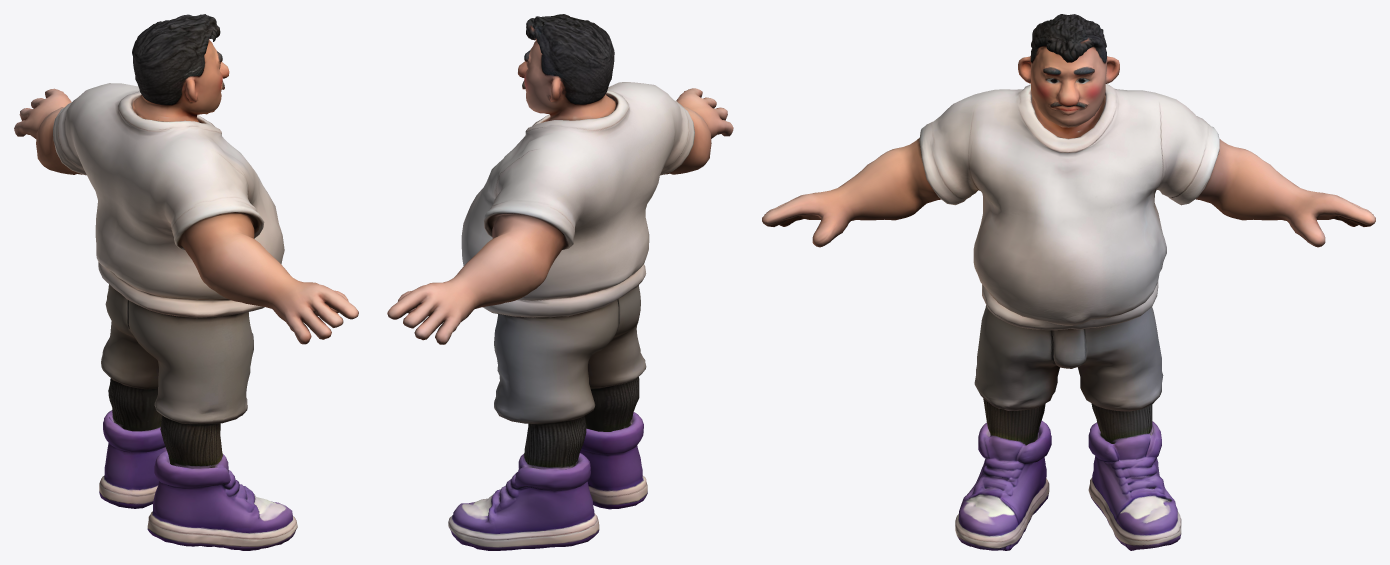
3 renders of one model, left to right at view 1: azimuth 30°, elevation 25°; view 2: azimuth 150°, elevation 25°; view 3: azimuth 270°, elevation 25°, orthographic.
Visible parts, largest first — view 1: tripo_node_d2f870b1; view 2: tripo_node_d2f870b1; view 3: tripo_node_d2f870b1.
Boxes of the visible parts, x1,y1,x2,y2 form: tripo_node_d2f870b1: (14,14,358,550); tripo_node_d2f870b1: (387,14,733,550); tripo_node_d2f870b1: (762,14,1375,550).
Bounding box in the file's own units: 30.72 × 90.22 × 100.
1 material, 1 textured.
